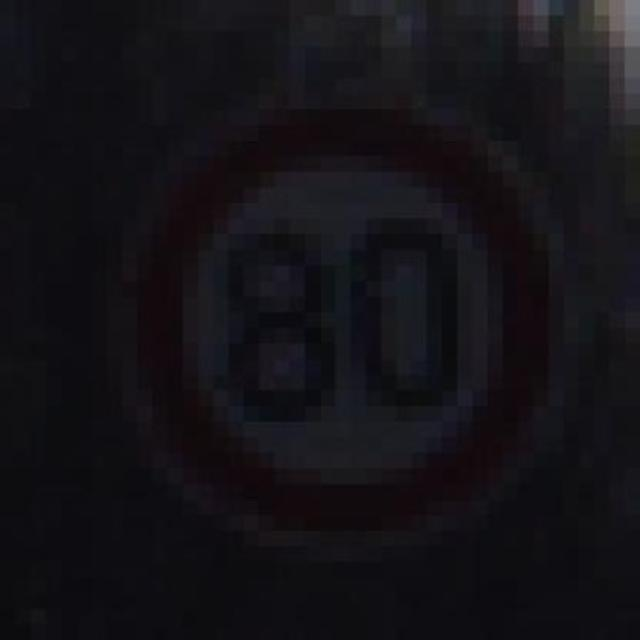forb_speed_over_80: (128, 106, 567, 549)
